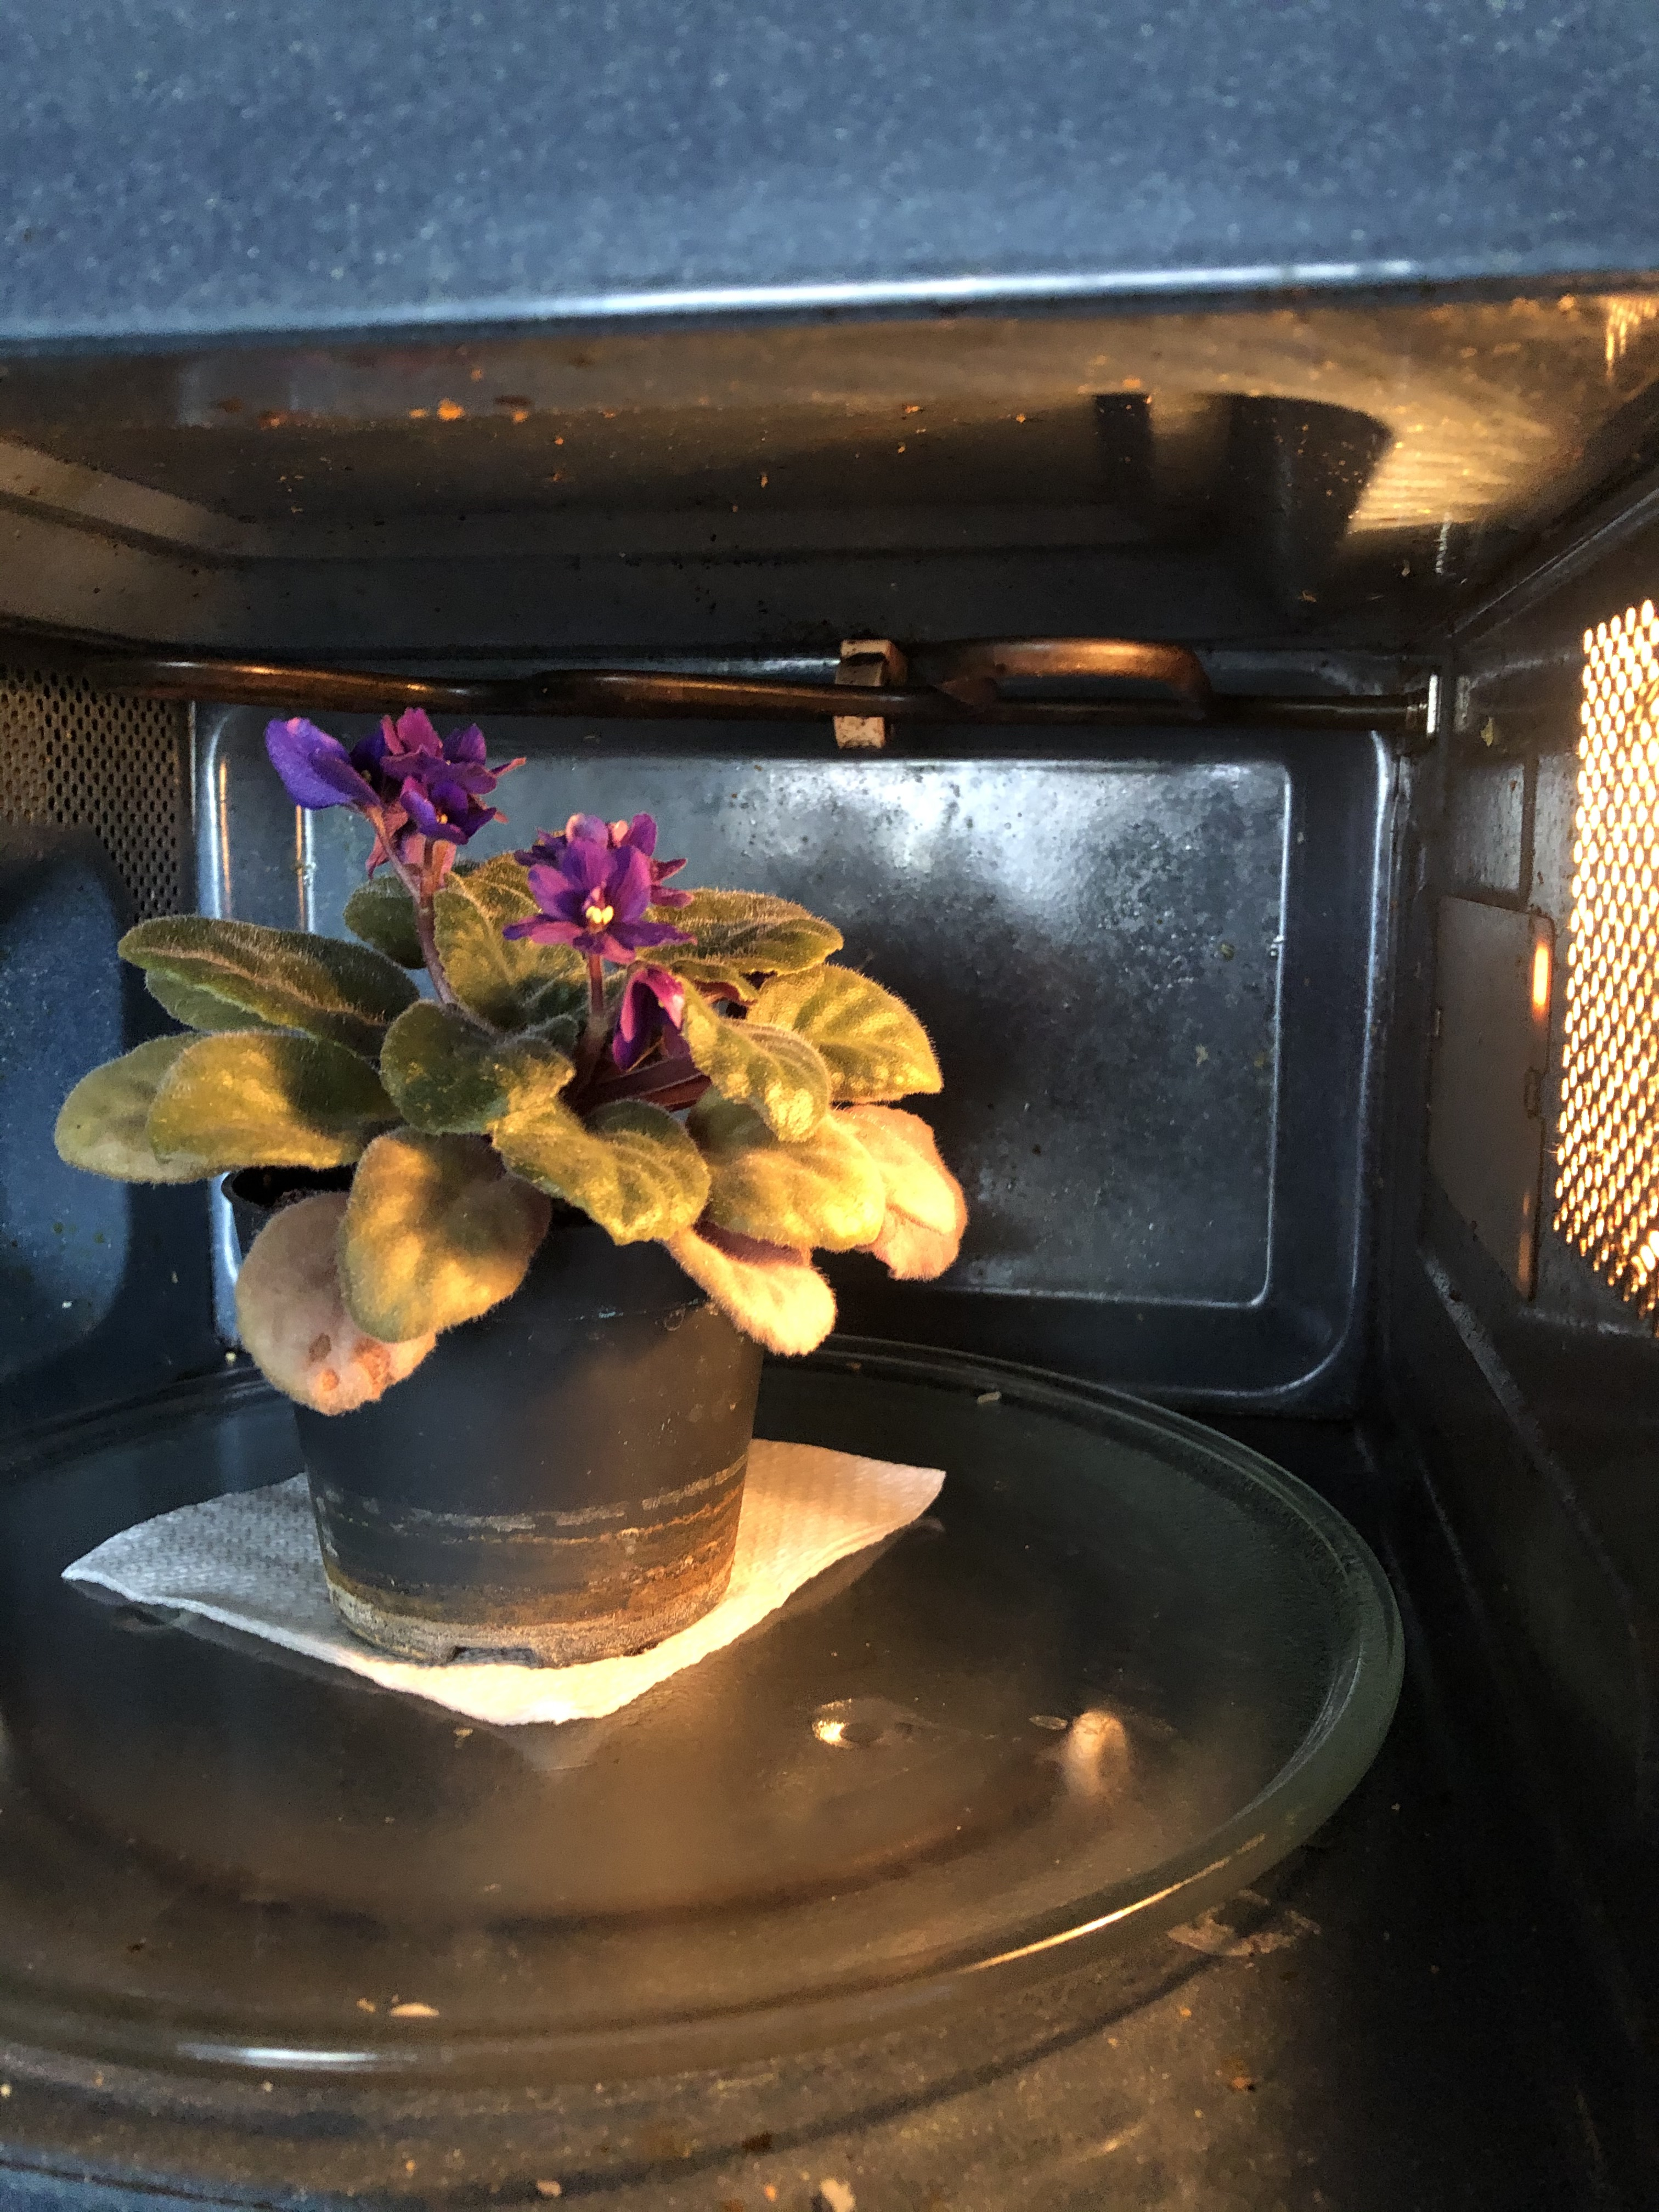ignore: (52, 695, 979, 1404)
